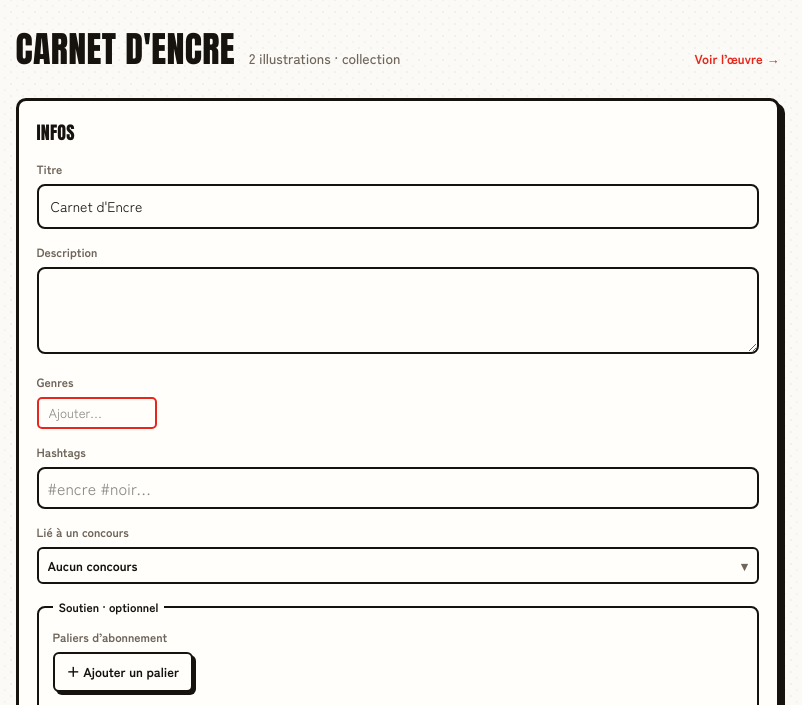
Test: ManageCollectionClient (DR-12 V4) › "Annuler" restores the last-saved info values without persisting (DR-12 Task C)
Replace the text in the field labelled "Titre" with "Titre modifié" at [398, 206], box [36,184,758,229]
(page scrolled)
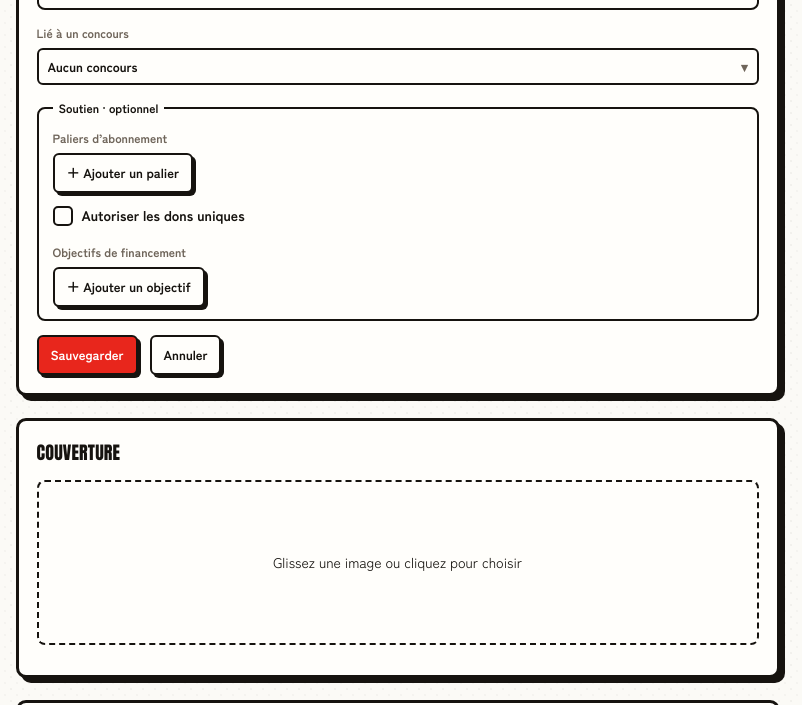
Click the button "Annuler" at [186, 354], box [150,334,222,374]
(page scrolled)
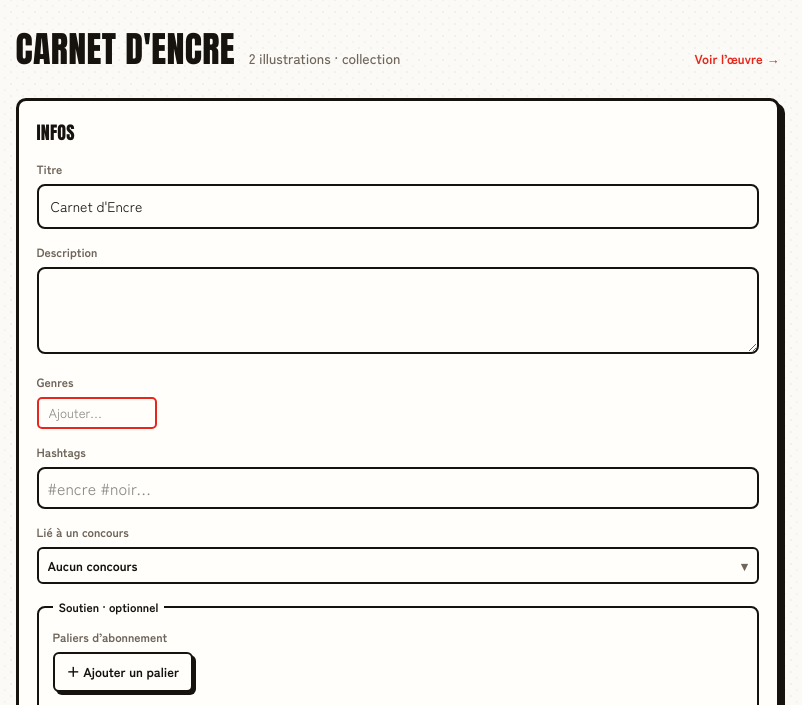
Now the field labelled "Titre" holds "Carnet d'Encre", box [36,184,758,229]
